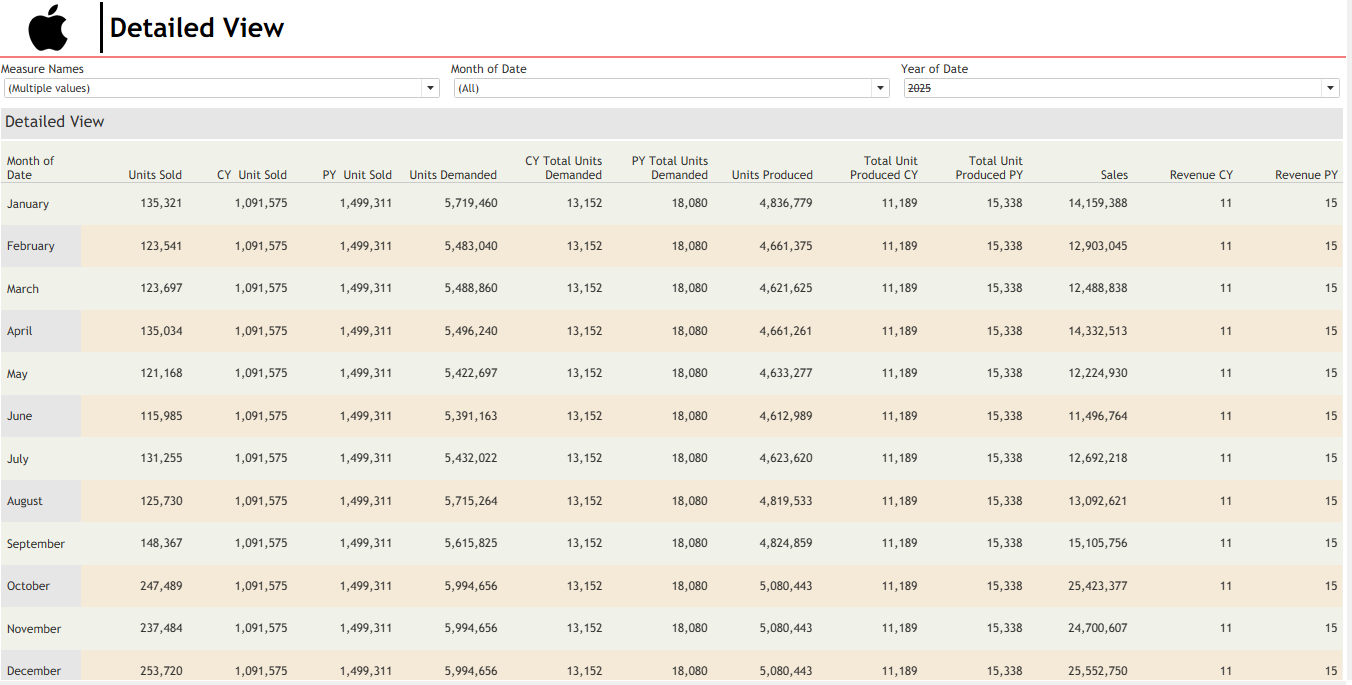

The page's visual inventory and layout, read from the dashboard file:
{"tool":"tableau","page":{"name":"Dashboard 3 ","canvas":[1350,750],"ordinal":2},"visuals":[{"type":"image","param":"Image/download__1_-removebg-preview.png","box":[0,0,103,57]},{"type":"blank","box":[103,0,3,57]},{"type":"text","box":[106,0,612,57]},{"type":"blank","box":[718,0,632,57]},{"type":"blank","box":[0,57,1350,2]},{"type":"filter","title":"Detailed View","param":"[federated.0bsn9tm14zc44j15jpvzd0lx3n3e].[:Measure Names]","box":[0,59,450,46]},{"type":"filter","title":"Detailed View","param":"[federated.0bsn9tm14zc44j15jpvzd0lx3n3e].[mn:Date:ok]","box":[450,59,450,46]},{"type":"filter","title":"Detailed View","param":"[federated.0bsn9tm14zc44j15jpvzd0lx3n3e].[yr:Date:ok]","box":[900,59,450,46]},{"type":"worksheet","title":"Detailed View","mark":"Automatic","rows":["Date"],"box":[0,105,1350,643]},{"type":"blank","box":[0,748,1350,2]}]}

Visuals, with their boxes on the page's 1350x750 design canvas (x1, y1, x2, y2). These are canvas units, not pixel positions in the 1352x685 screenshot, which may show the page scaled, cropped or inside an application window:
image: bbox(0, 0, 103, 57)
blank: bbox(103, 0, 106, 57)
text: bbox(106, 0, 718, 57)
blank: bbox(718, 0, 1350, 57)
blank: bbox(0, 57, 1350, 59)
"Detailed View" filter: bbox(0, 59, 450, 105)
"Detailed View" filter: bbox(450, 59, 900, 105)
"Detailed View" filter: bbox(900, 59, 1350, 105)
"Detailed View" worksheet: bbox(0, 105, 1350, 748)
blank: bbox(0, 748, 1350, 750)
